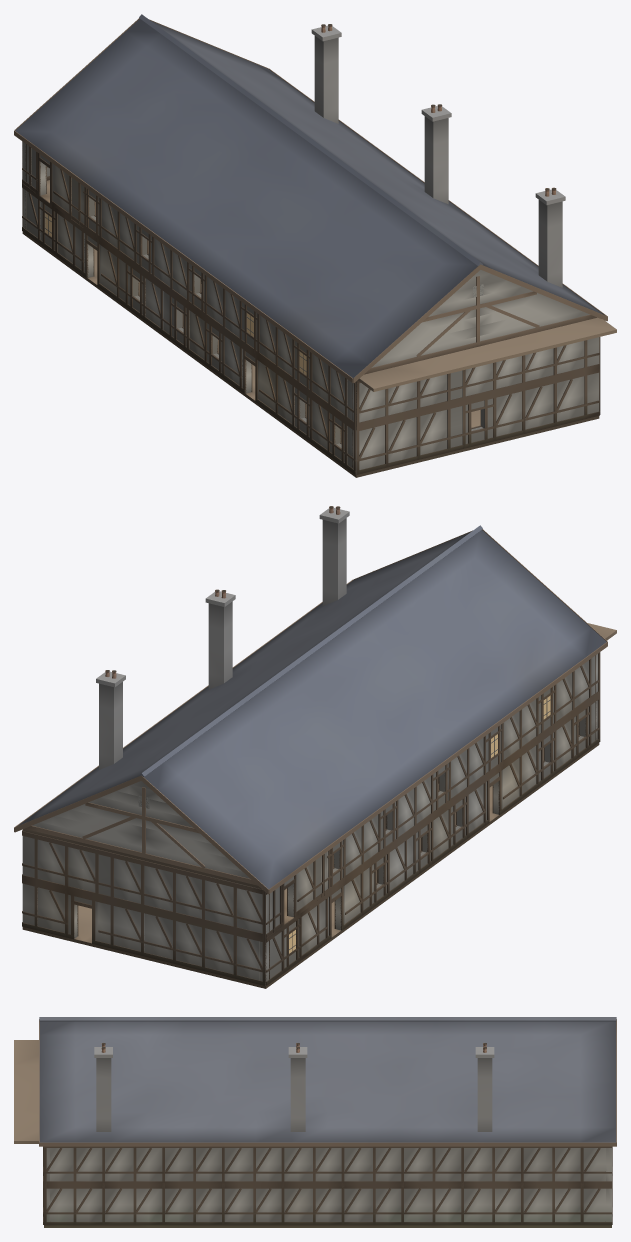
The model's file is barracks.glb.
3 views of the same model, one above another, from view 1: azimuth 30°, elevation 25°; view 2: azimuth 150°, elevation 25°; view 3: azimuth 270°, elevation 25° (orthographic). The views are drawn at different scales.
Visible parts, largest first — view 1: roof_16x38.001, gable_16.002, wall_plaster_4.029, wall_plaster_4.031, chimney_6.002, chimney_6.003, chimney_6.001, wall_plaster_4.030, wall_plaster_4.032, wall_plaster_4.001, wall_plaster_2.019, wall_plaster_4.006 (+36 smaller); view 2: roof_16x38.001, gable_16.001, wall_plaster_4.026, wall_plaster_4.025, wall_plaster_4.028, wall_plaster_4.027, chimney_6.003, chimney_6.002, chimney_6.001, wall_plaster_4.001, wall_plaster_2.015, wall_plaster_4.002 (+34 smaller); view 3: roof_16x38.001, wall_plaster_4.009, wall_plaster_4.019, wall_plaster_4.023, wall_plaster_4.011, wall_plaster_4.021, wall_plaster_4.013, wall_plaster_4.015, wall_plaster_4.017, wall_plaster_4.010, wall_plaster_4.020, wall_plaster_4.024 (+16 smaller).
Boxes of the visible parts, left/top/right/bottom form: roof_16x38.001: left=14, top=14, right=607, bottom=383; gable_16.002: left=364, top=270, right=596, bottom=374; wall_plaster_4.029: left=352, top=412, right=417, bottom=474; wall_plaster_4.031: left=493, top=379, right=554, bottom=441; chimney_6.002: left=421, top=104, right=451, bottom=204; chimney_6.003: left=535, top=187, right=565, bottom=287; chimney_6.001: left=311, top=24, right=341, bottom=123; wall_plaster_4.030: left=352, top=380, right=417, bottom=427; wall_plaster_4.032: left=493, top=348, right=554, bottom=393; wall_plaster_4.001: left=259, top=357, right=294, bottom=429; wall_plaster_2.019: left=553, top=371, right=584, bottom=426; wall_plaster_4.006: left=311, top=354, right=347, bottom=420; roof_16x38.001: left=14, top=525, right=607, bottom=894; gable_16.001: left=25, top=781, right=257, bottom=885; wall_plaster_4.026: left=204, top=875, right=269, bottom=938; wall_plaster_4.025: left=204, top=923, right=269, bottom=985; wall_plaster_4.028: left=143, top=860, right=204, bottom=923; wall_plaster_4.027: left=143, top=909, right=204, bottom=971; chimney_6.003: left=319, top=506, right=349, bottom=605; chimney_6.002: left=205, top=589, right=235, bottom=689; chimney_6.001: left=96, top=670, right=125, bottom=769; wall_plaster_4.001: left=502, top=739, right=538, bottom=811; wall_plaster_2.015: left=37, top=835, right=68, bottom=889; wall_plaster_4.002: left=345, top=813, right=380, bottom=879; roof_16x38.001: left=39, top=1017, right=616, bottom=1146; wall_plaster_4.009: left=492, top=1184, right=552, bottom=1225; wall_plaster_4.019: left=193, top=1184, right=253, bottom=1225; wall_plaster_4.023: left=73, top=1184, right=133, bottom=1225; wall_plaster_4.011: left=432, top=1184, right=492, bottom=1225; wall_plaster_4.021: left=133, top=1184, right=193, bottom=1225; wall_plaster_4.013: left=373, top=1184, right=432, bottom=1225; wall_plaster_4.015: left=313, top=1184, right=372, bottom=1225; wall_plaster_4.017: left=253, top=1184, right=312, bottom=1225; wall_plaster_4.010: left=492, top=1146, right=552, bottom=1184; wall_plaster_4.020: left=193, top=1146, right=253, bottom=1184; wall_plaster_4.024: left=73, top=1146, right=133, bottom=1184.
Bounding box in the file's own units: 16.79 × 13.07 × 40.33.
